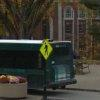Bus: (7, 33, 77, 94)
